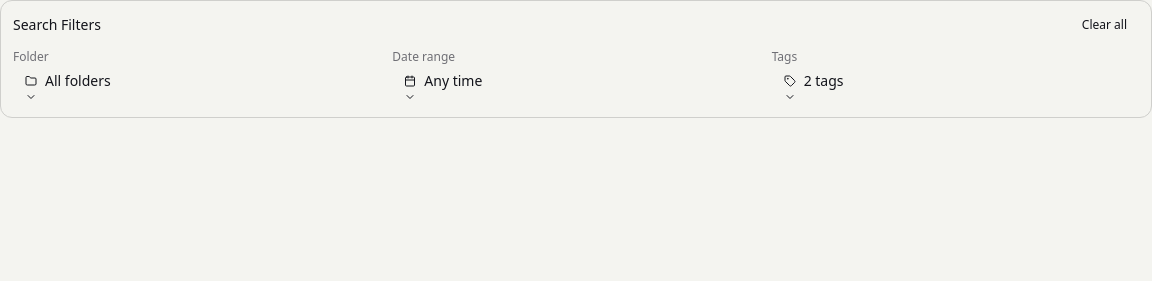
SearchFiltersPanel › Tags Filter › displays selected tags with remove buttons
Click the button "2 tags".
click(824, 80)  # box [772,69,1139,105]
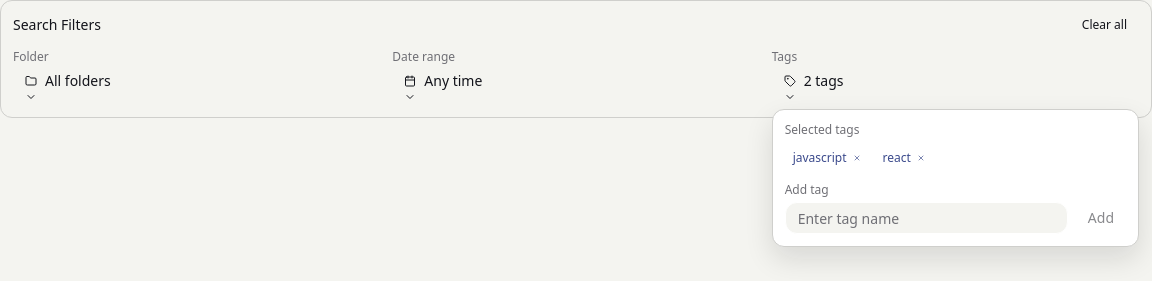
Now the text "Selected tags" is shown, box [785,121,860,138]
Now the text "javascript" is shown, box [793,150,847,166]
Now the text "react" is shown, box [883,150,911,166]
